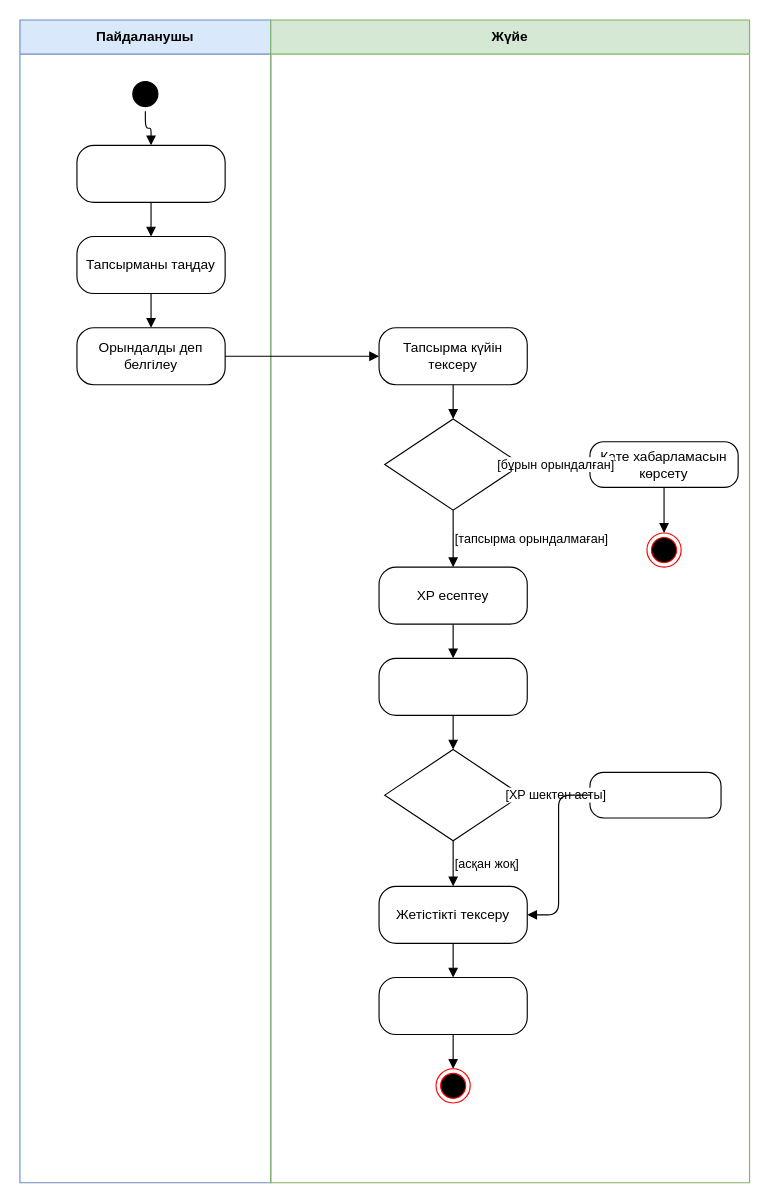
Some shapes in this 770 by 1203 pixel diagram are drawn without their labels. The shapes that lost their labels are listed below. From the top down, each one's centre as x and y in pixels, then its label:
At point (150, 173): "Тапсырмалар тізімін ашу".
At point (452, 686): "XP-ді профильге қосу".
At point (655, 794): "Деңгейді көтеру".
At point (452, 1005): "Нәтижені көрсету".
